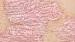plaque psoriasis: (0, 0, 75, 42), (50, 19, 75, 42)
